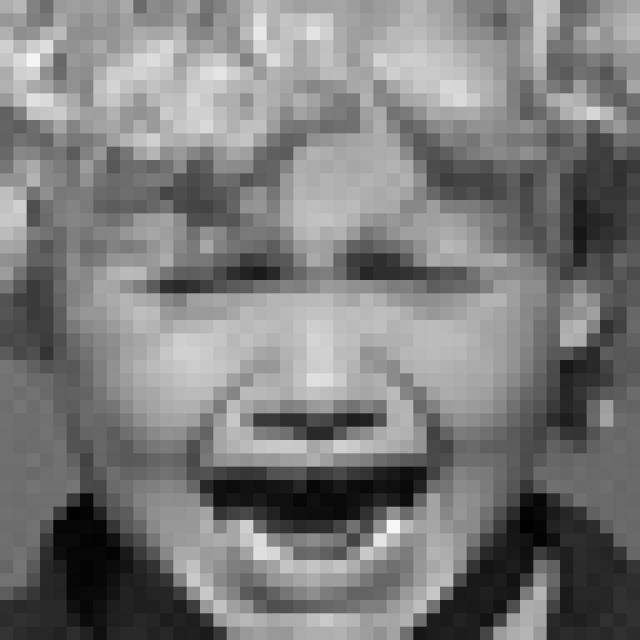sad: (116, 223, 513, 614)
